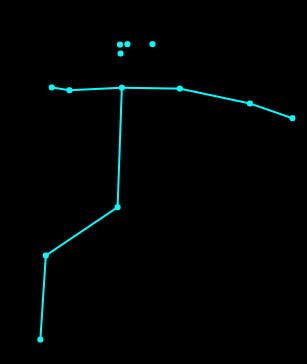warrior_2: (25, 33, 298, 348)
